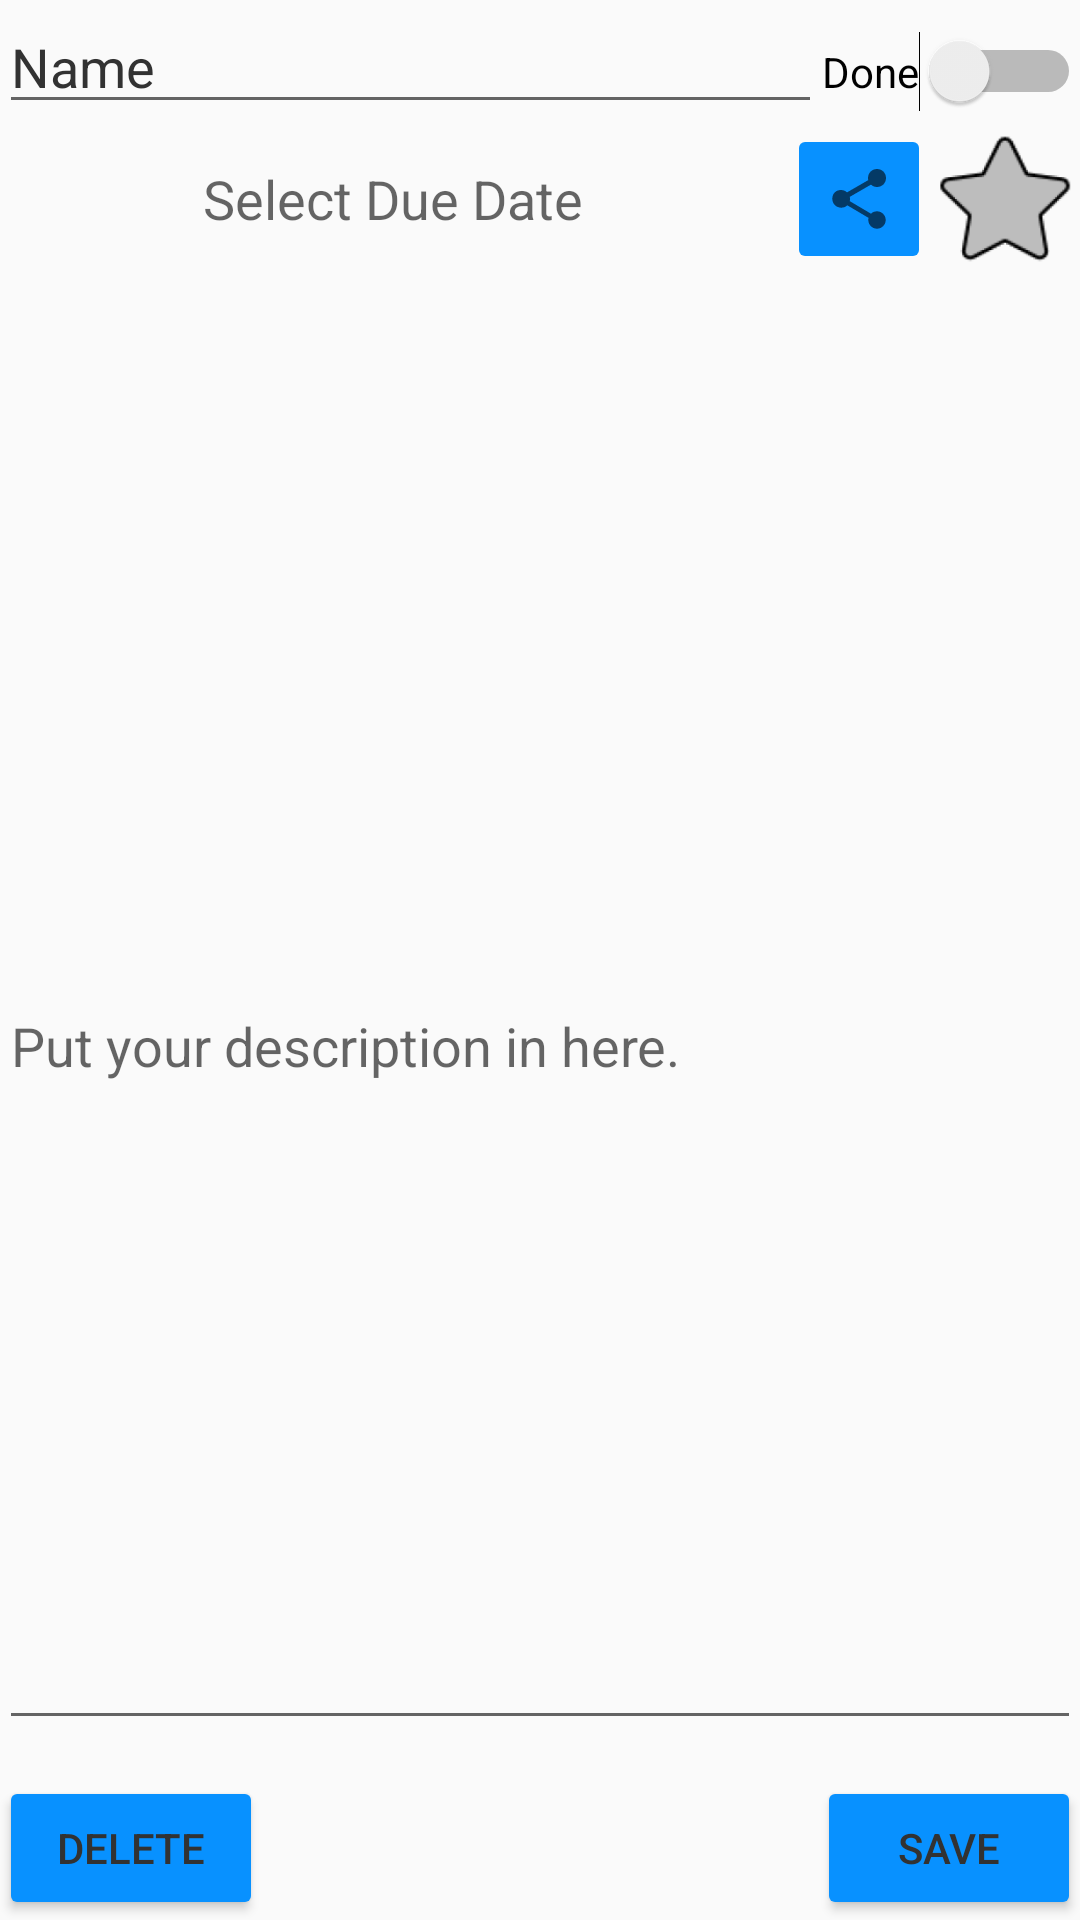

Icons on this 1080px×1920px Android screen, each with the point to tap as (x,y):
favorite false: (1005,198)
